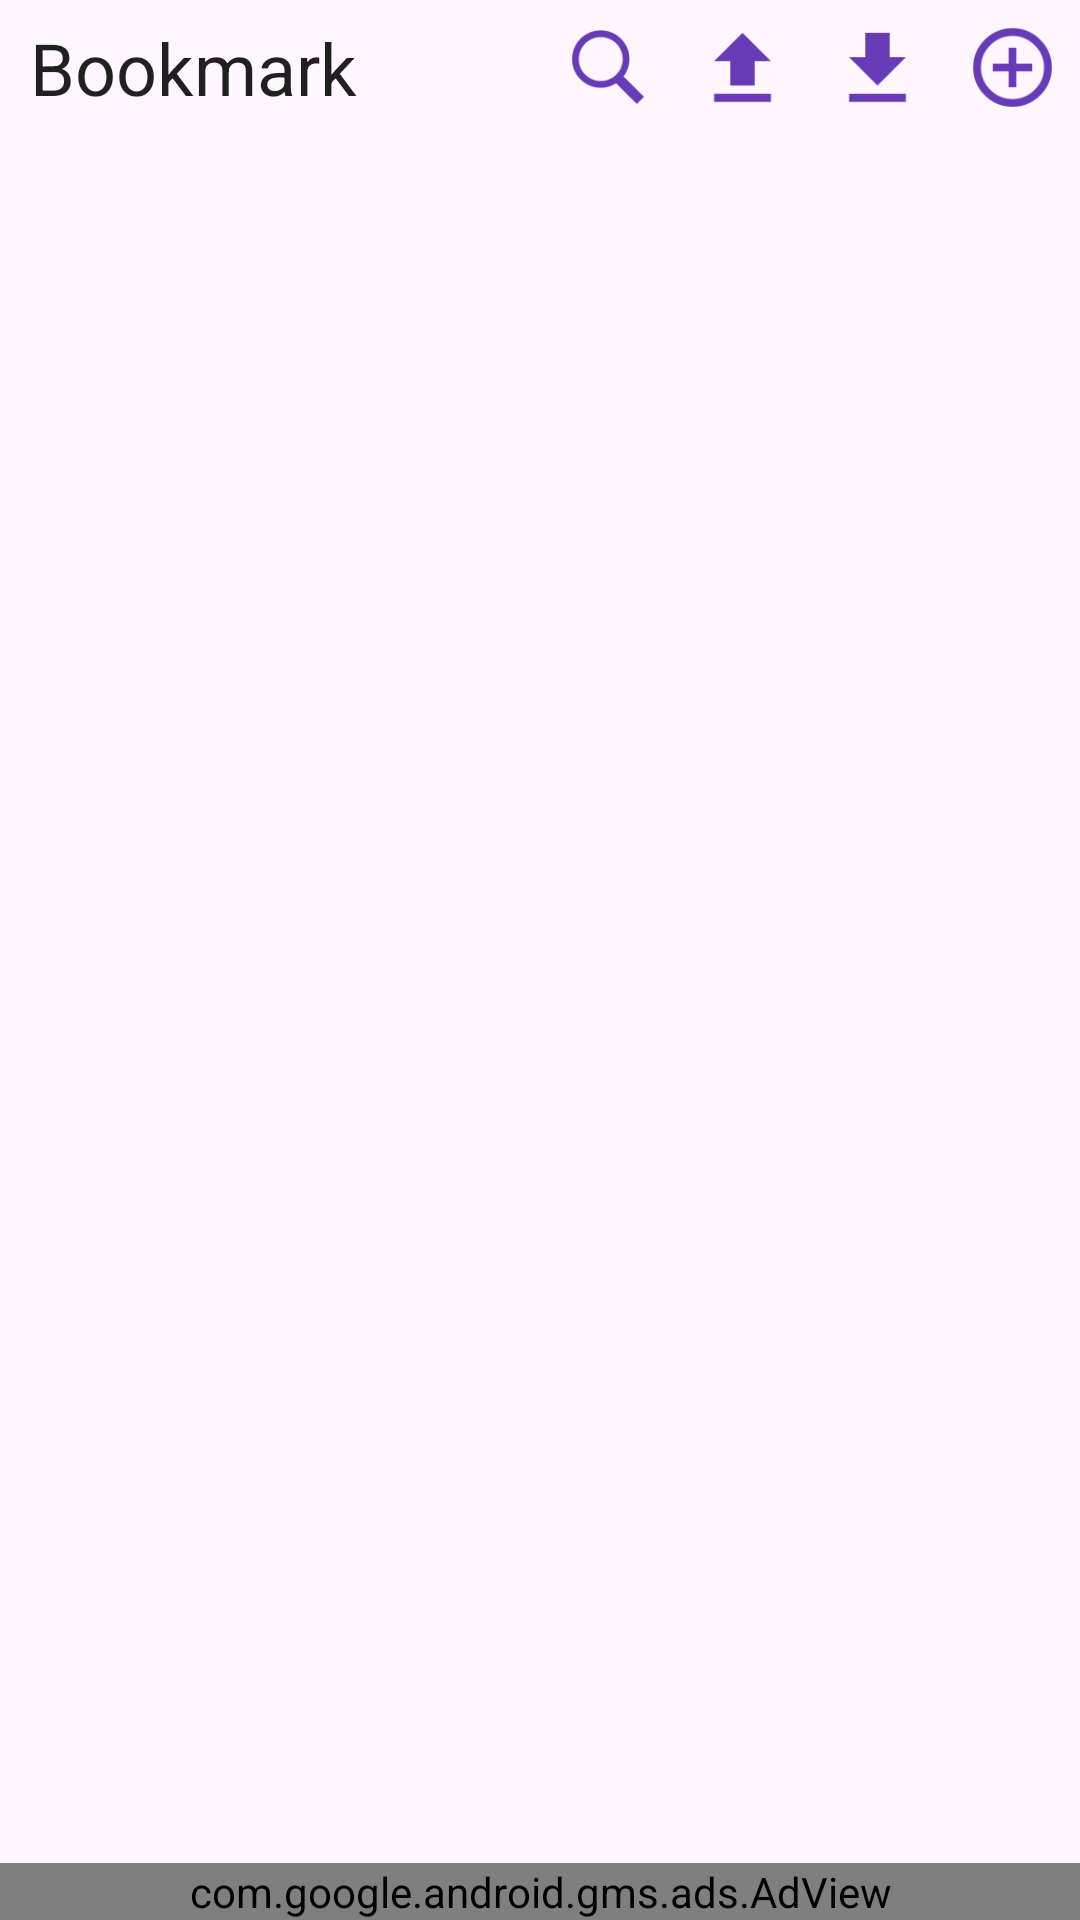

Screen size 1080 × 1920. Icon name, then its center in pixels as [x,y]:
bookmark export: [742,67]
bookmark import: [877,67]
bookmark save: [1012,67]
bookmark search: [608,67]
